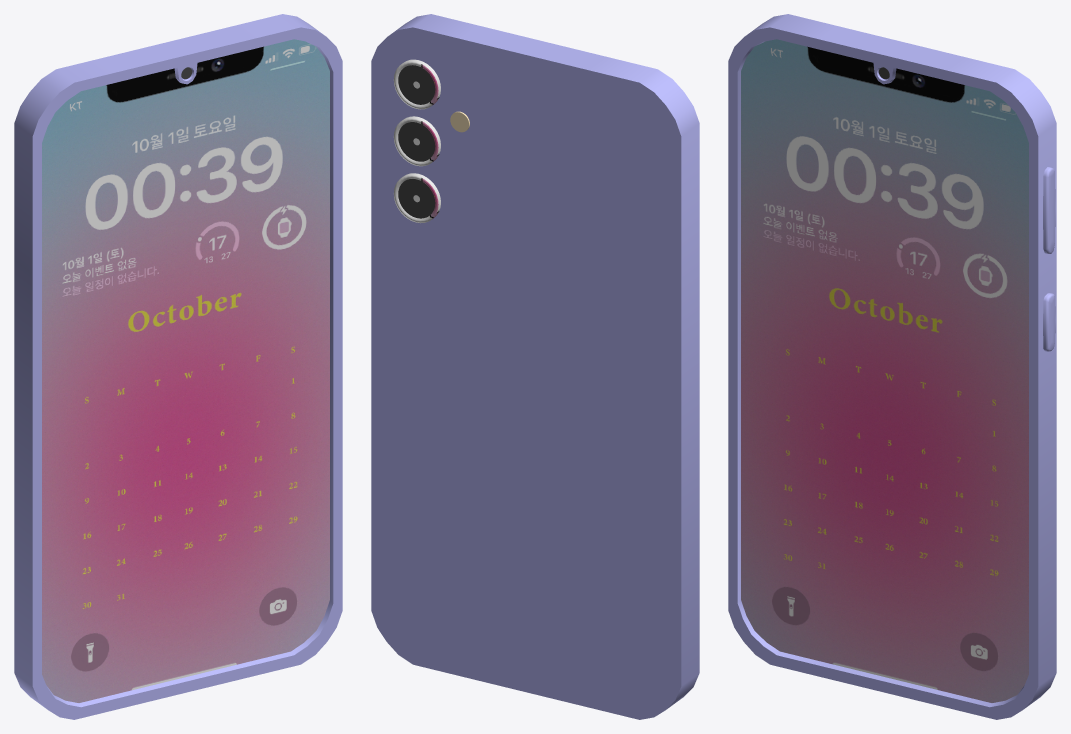
Rendered from Reject11.fbx.
The picture shows the model from 3 angles, left to right: view 1: azimuth 30°, elevation 25°; view 2: azimuth 150°, elevation 25°; view 3: azimuth 330°, elevation 25°; orthographic projection.
Parts seen in each view (by area): view 1: reject.010; view 2: reject.010; view 3: reject.010.
Boxes of the visible parts, left/top/right/bottom form: reject.010: left=14, top=14, right=342, bottom=719; reject.010: left=371, top=14, right=699, bottom=719; reject.010: left=728, top=14, right=1056, bottom=719.
Size of the model in its own units: 1.13 by 2.18 by 0.1292.
